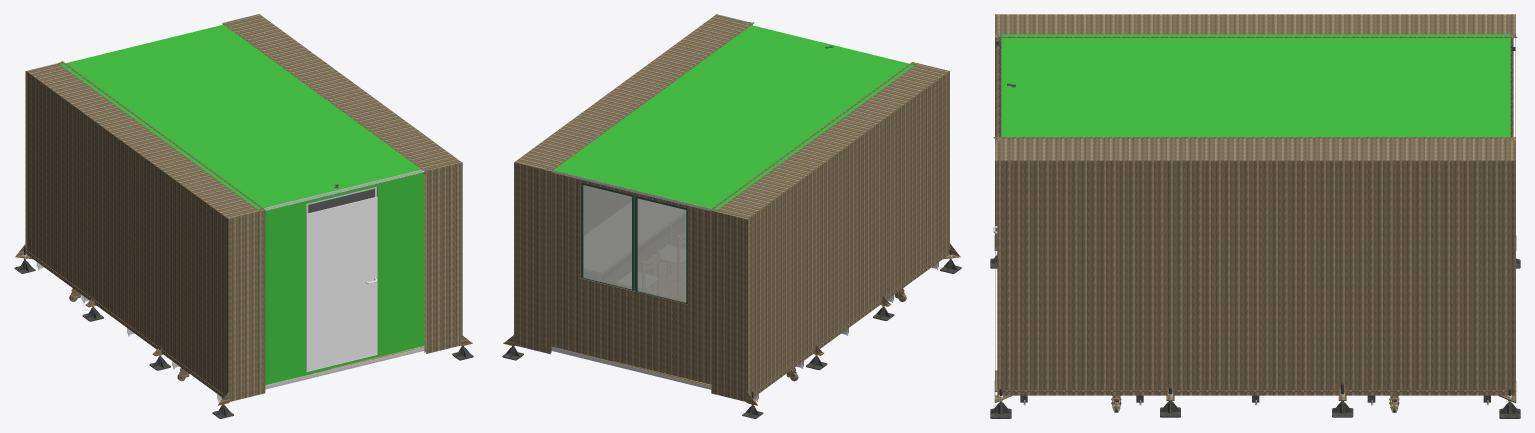
Rendered from COMEDOR_COMUNITARIO.glb.
The picture shows the model from 3 angles, left to right: view 1: azimuth 30°, elevation 25°; view 2: azimuth 150°, elevation 25°; view 3: azimuth 270°, elevation 25°; orthographic projection. The views are drawn at different scales.
Visible parts, largest first — view 1: COMEDOR_COMUNITARIO; view 2: COMEDOR_COMUNITARIO; view 3: COMEDOR_COMUNITARIO.
Part boxes in pixels (box(x1,y1,x2,y2)): COMEDOR_COMUNITARIO: box(14, 14, 473, 418); COMEDOR_COMUNITARIO: box(502, 14, 961, 418); COMEDOR_COMUNITARIO: box(990, 14, 1520, 418).
Bounding box in the file's own units: 3.56 × 2.63 × 4.99.
Materials: 13 (5 with a texture image).
